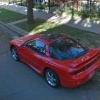Car: (7, 24, 100, 88)
